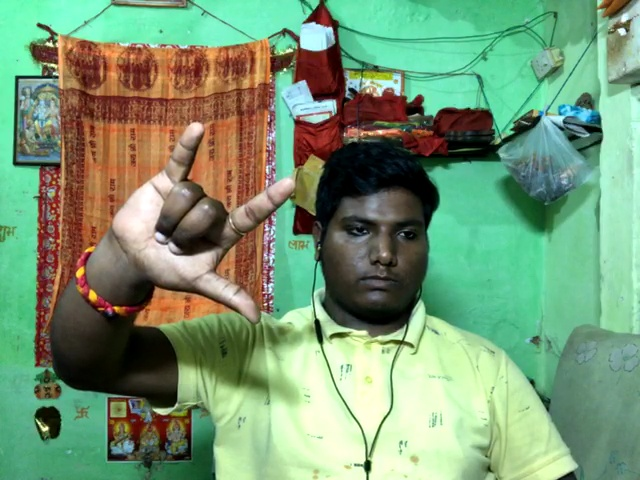I Love You: (103, 120, 311, 351)
